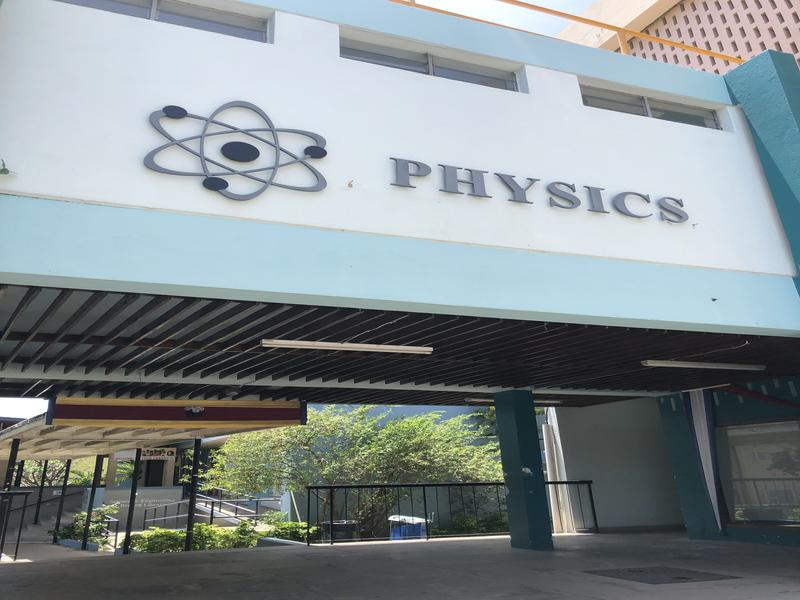18.0053657_-76.7491452_physicssign: (121, 74, 728, 270)
